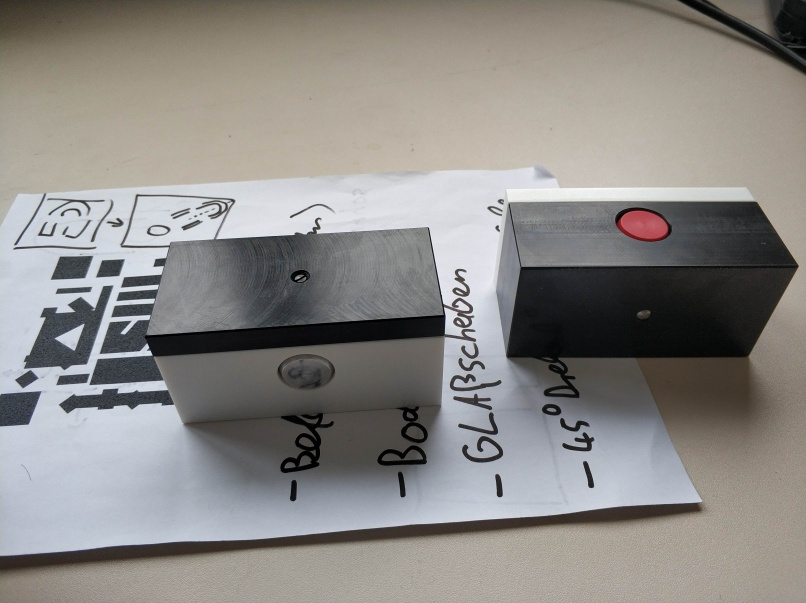black+white+silver: (143, 225, 447, 427)
white+black+red: (497, 184, 801, 363)
